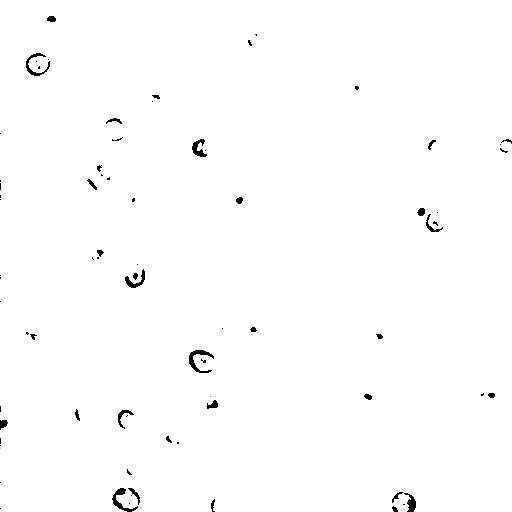micro-algae: (367, 107, 466, 200), (264, 4, 356, 91), (117, 351, 179, 412), (1, 125, 34, 195), (184, 123, 226, 164), (160, 140, 202, 181), (375, 486, 428, 512), (95, 479, 134, 512), (117, 189, 153, 224), (90, 155, 123, 189), (467, 381, 503, 409), (28, 263, 58, 296), (69, 178, 100, 209), (239, 313, 266, 343), (187, 348, 217, 375), (37, 7, 69, 31), (367, 321, 395, 348), (111, 487, 141, 512), (340, 73, 367, 100), (24, 52, 52, 77), (407, 198, 435, 223), (102, 117, 128, 143), (74, 398, 100, 424), (18, 326, 44, 350), (123, 262, 146, 289), (227, 36, 252, 59), (124, 459, 150, 481), (390, 491, 418, 511), (488, 266, 512, 289), (116, 408, 140, 431), (144, 438, 168, 461), (356, 385, 381, 407), (123, 0, 149, 21), (250, 25, 274, 47), (89, 240, 111, 263), (426, 137, 448, 159), (261, 103, 283, 125), (425, 210, 446, 233), (208, 492, 232, 512), (1, 411, 20, 435), (379, 0, 415, 12), (164, 427, 184, 446), (199, 392, 219, 409), (229, 194, 250, 207), (446, 79, 460, 94), (499, 138, 512, 153)
